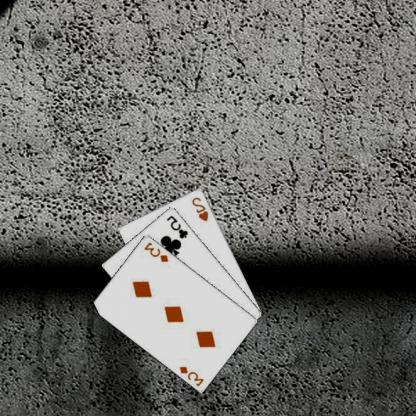2H: (191, 194, 212, 223)
3D: (143, 239, 172, 263), (178, 363, 207, 387)
5C: (166, 212, 191, 240)
